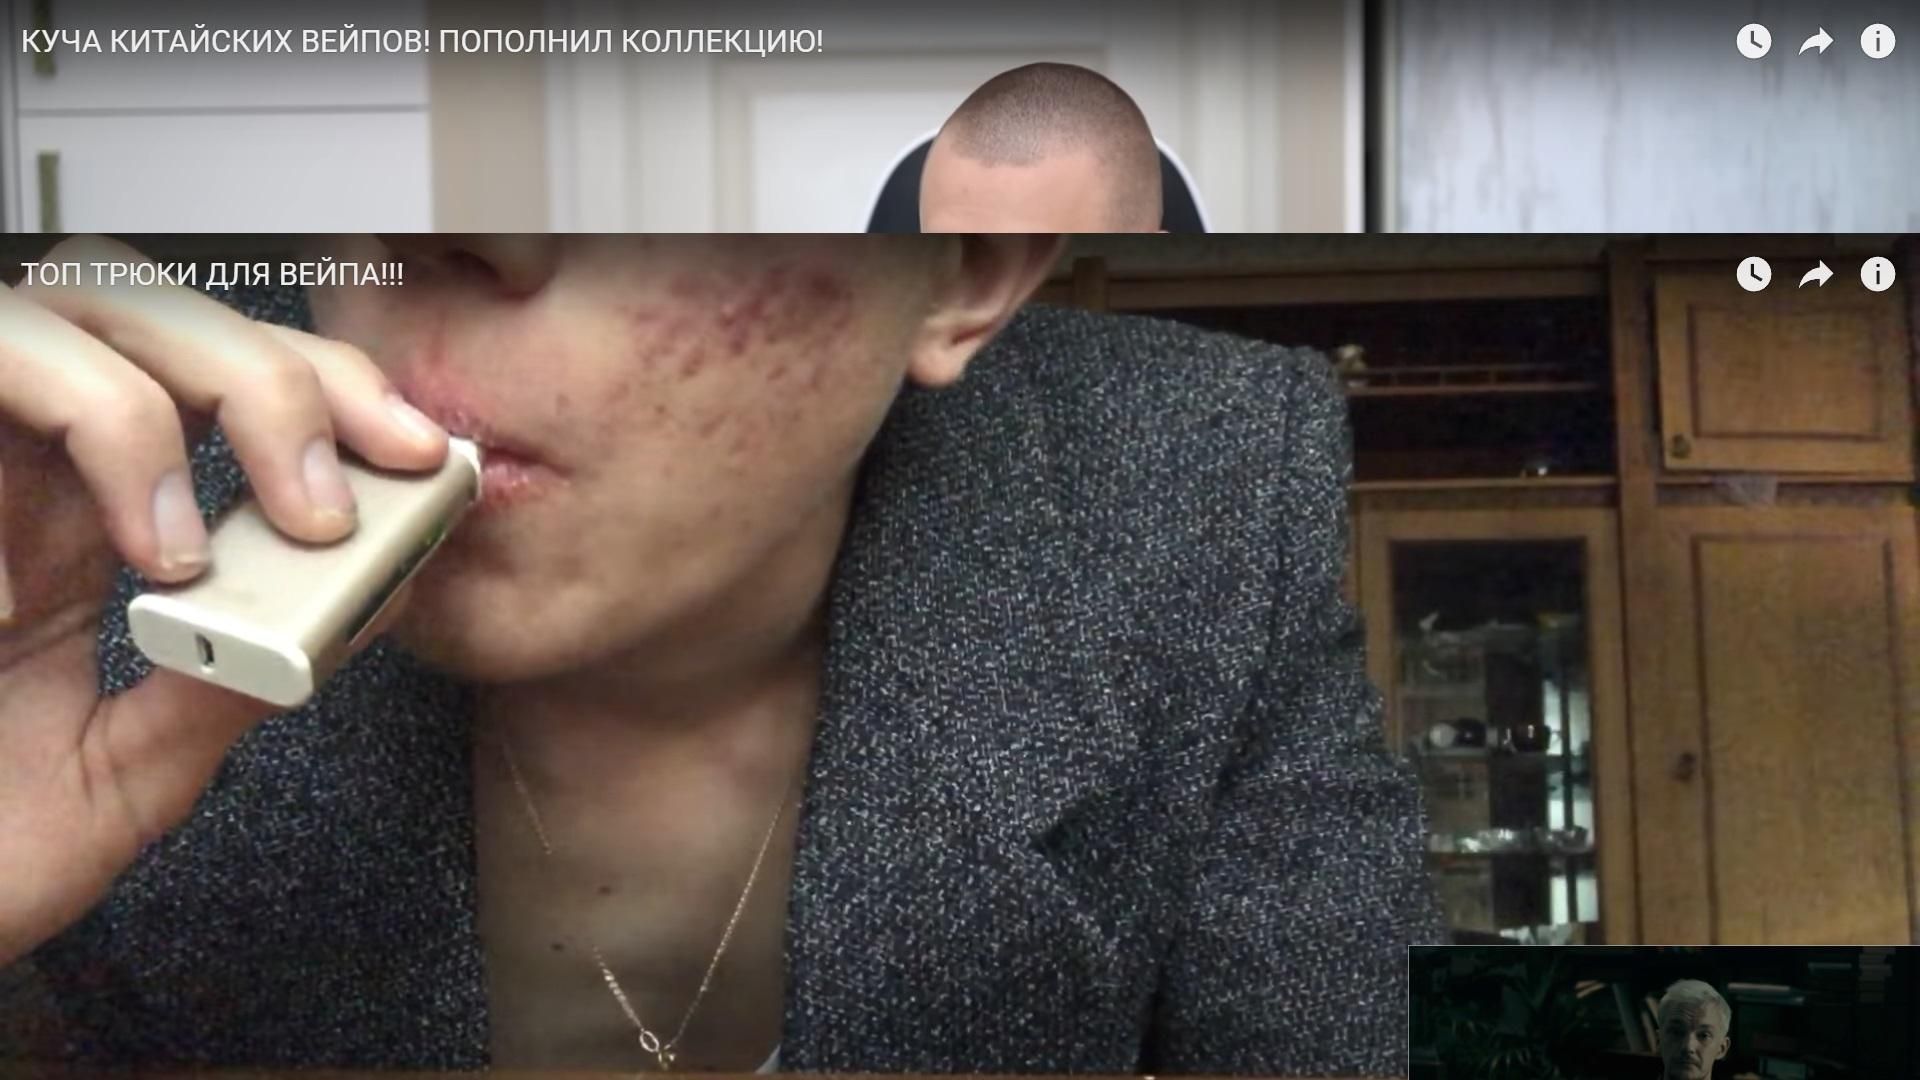Vape: (127, 436, 481, 709)
